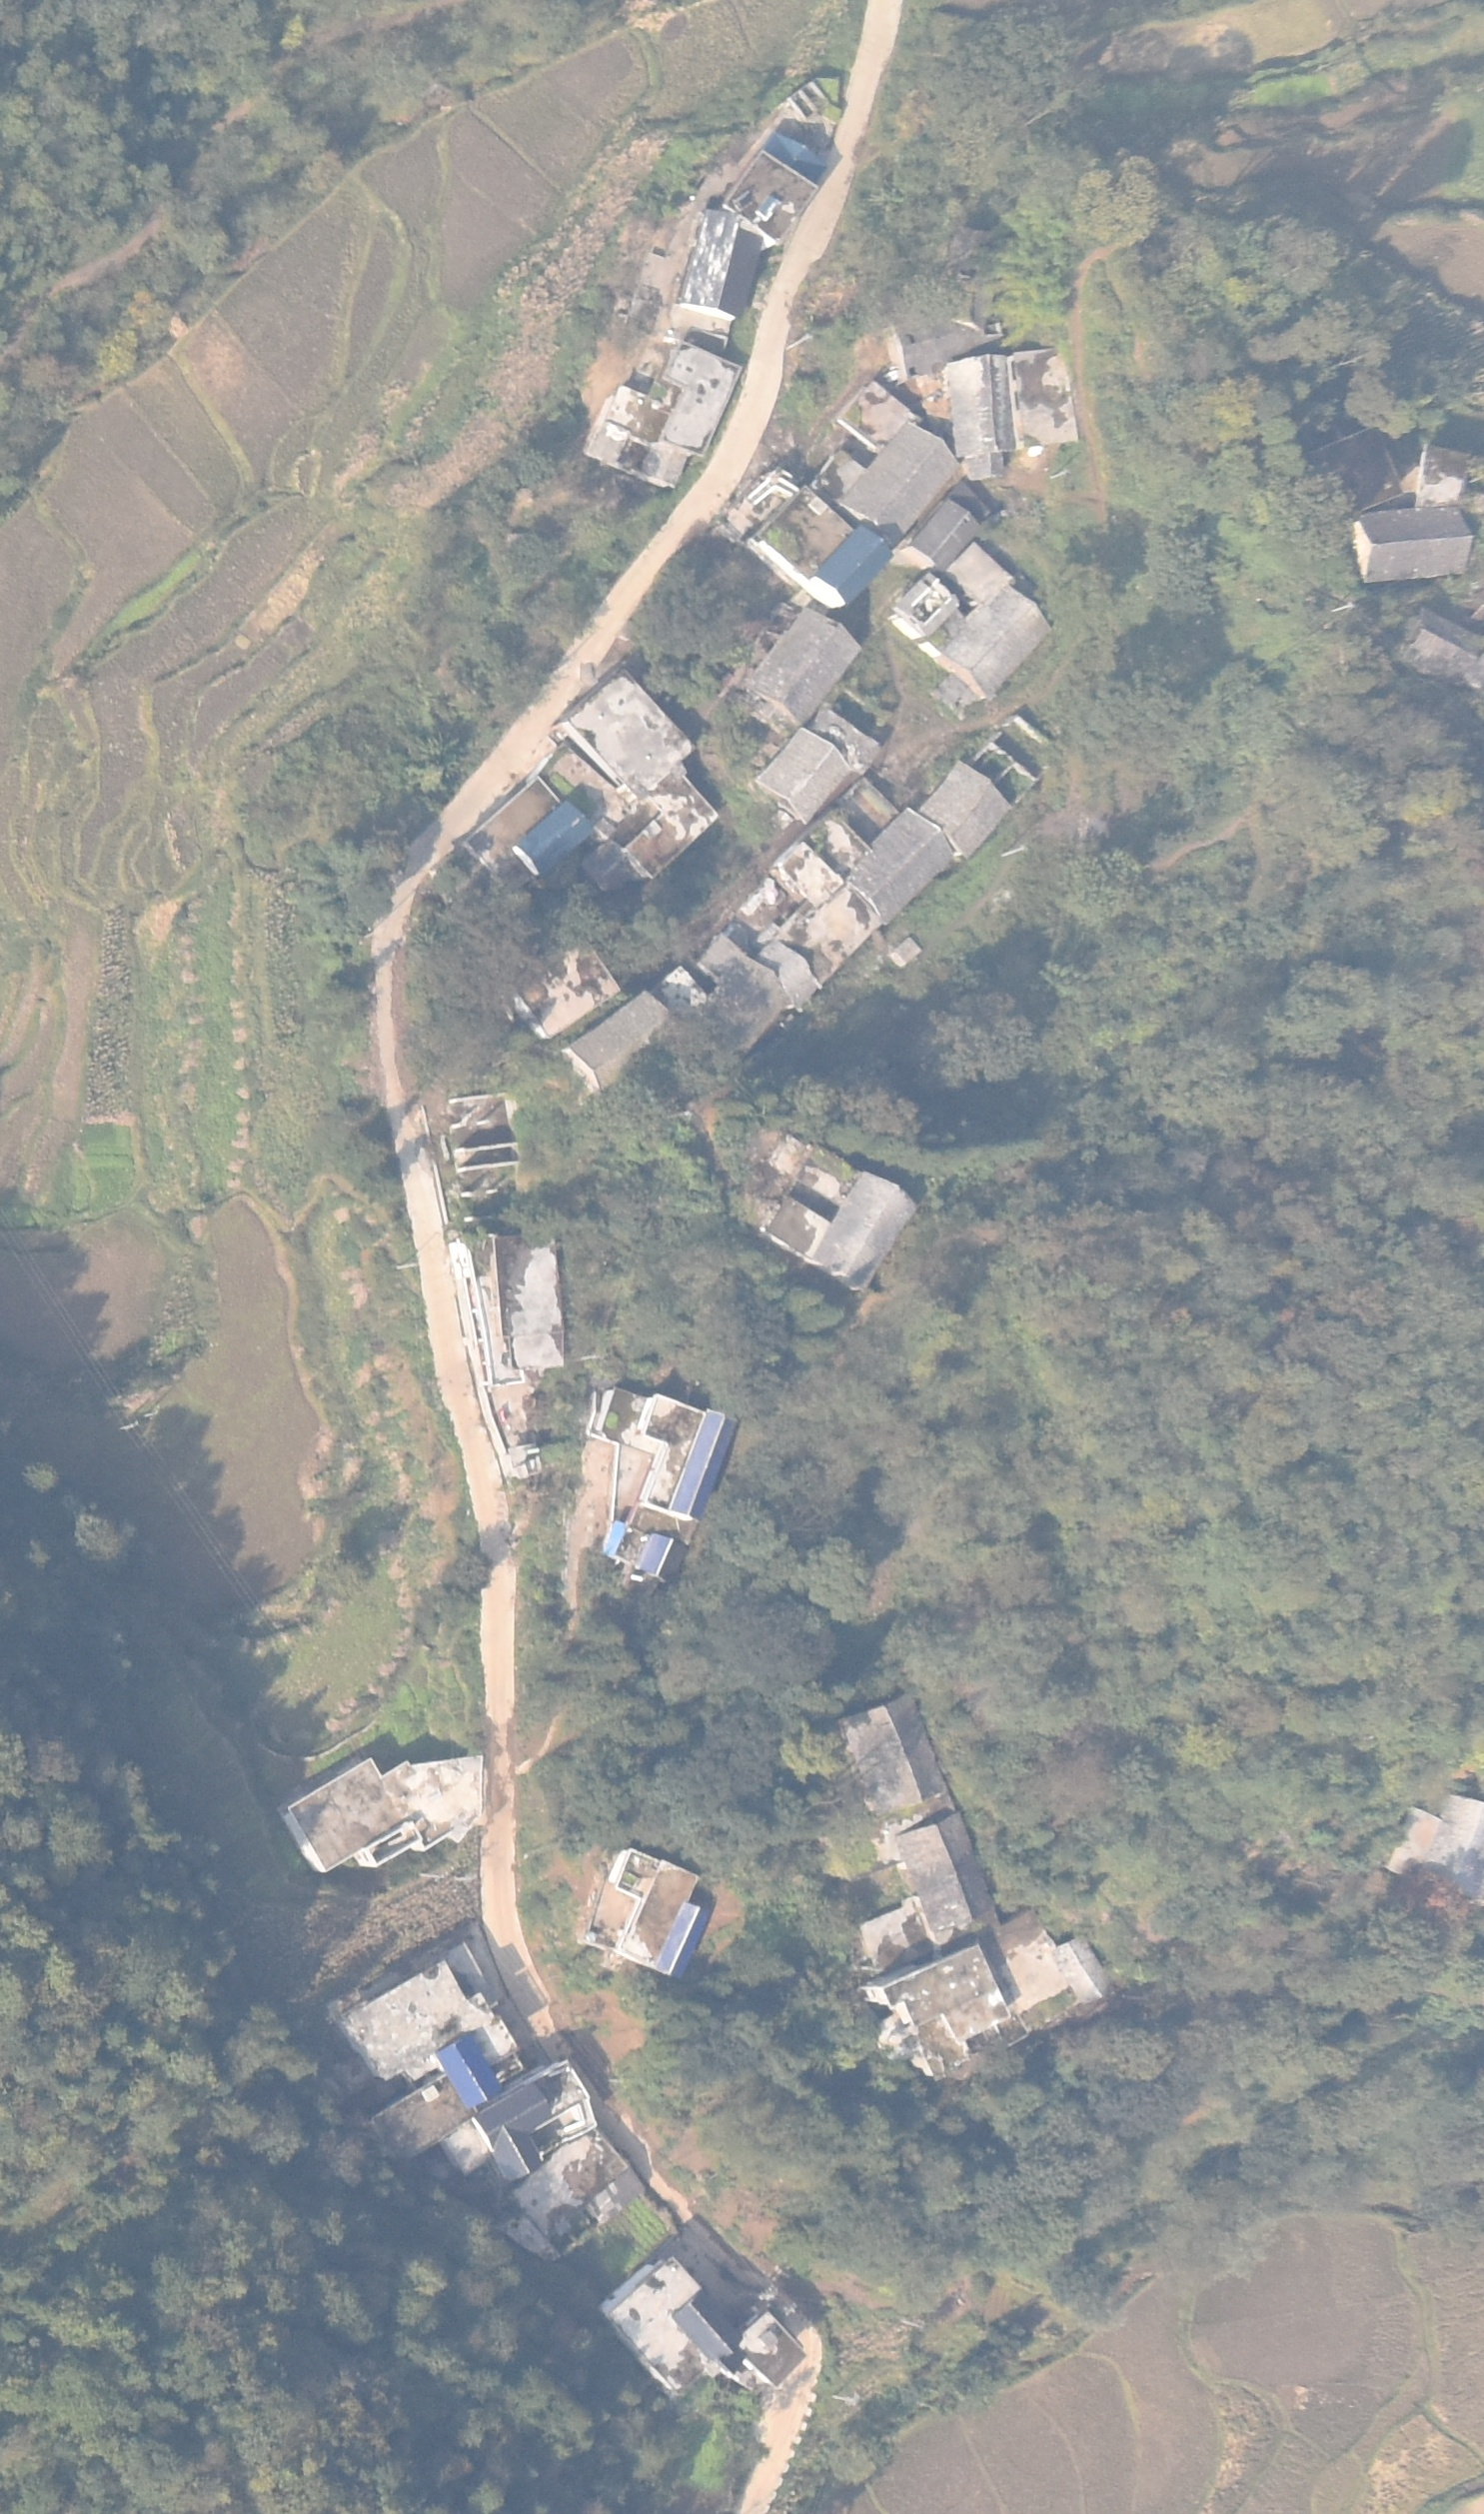building: (556, 674, 724, 879), (585, 1372, 739, 1580), (264, 1746, 499, 1878), (320, 1954, 538, 2079), (581, 340, 734, 488), (823, 1939, 1009, 2058), (558, 1838, 704, 1972), (600, 2250, 727, 2403), (764, 1163, 914, 1288), (742, 476, 892, 591), (846, 417, 974, 533), (884, 1813, 1010, 1930), (836, 804, 956, 925), (491, 944, 632, 1042), (830, 1691, 947, 1807), (743, 607, 858, 724), (467, 774, 592, 881), (694, 938, 802, 1058), (570, 987, 681, 1104), (945, 585, 1053, 699), (1350, 506, 1484, 589), (751, 726, 860, 827), (1002, 331, 1083, 463), (359, 2078, 479, 2166), (672, 198, 758, 319), (924, 753, 1023, 855), (938, 344, 1019, 463), (463, 2082, 561, 2180), (731, 146, 818, 241), (1311, 423, 1405, 508), (1404, 595, 1484, 683), (732, 2313, 811, 2399), (427, 2028, 512, 2105), (905, 495, 998, 565), (839, 377, 923, 451), (1051, 1931, 1115, 2013), (890, 319, 973, 380), (893, 577, 965, 646), (1410, 438, 1475, 514), (945, 540, 1022, 602), (663, 1900, 713, 1986), (763, 124, 835, 175)
prefabricated-house: (603, 1519, 630, 1561)
